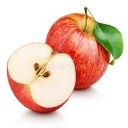apple: (7, 42, 77, 114)
